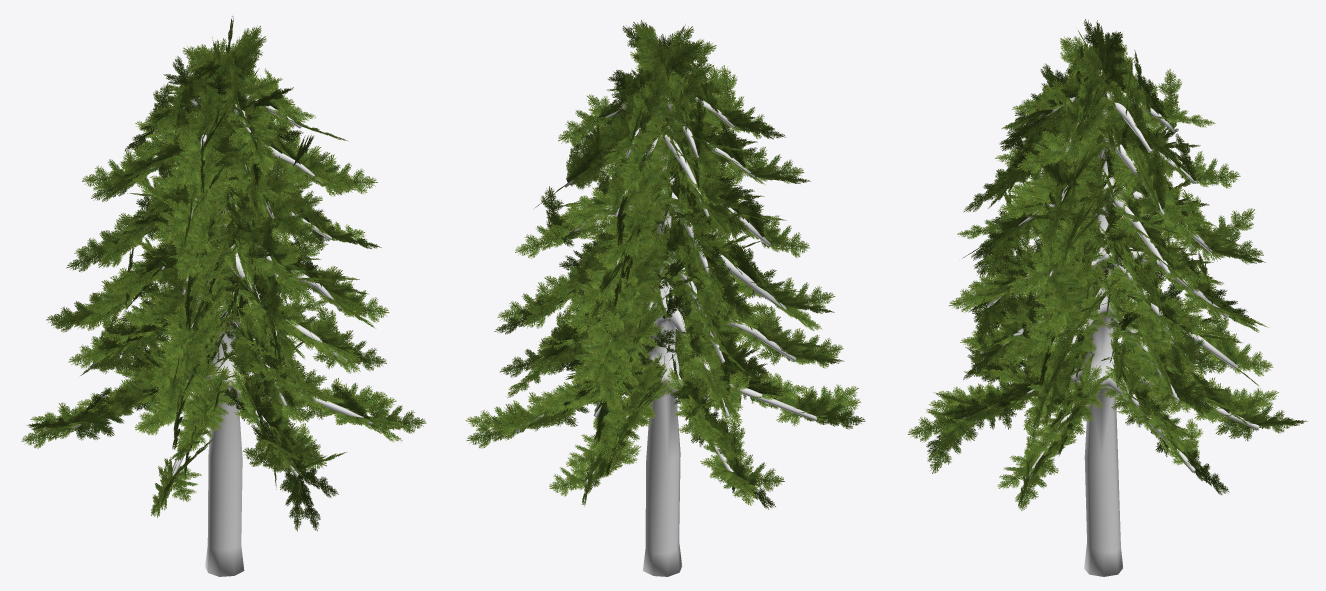
The model's file is Tree3.fbx.
3 renders of one model, left to right at view 1: azimuth 30°, elevation 25°; view 2: azimuth 150°, elevation 25°; view 3: azimuth 270°, elevation 25°, orthographic.
Parts seen in each view (by area): view 1: Branch_3, Tree_3; view 2: Branch_3, Tree_3; view 3: Branch_3, Tree_3.
Part boxes in pixels (x1,y1,x2,y2): Branch_3: (21, 16, 426, 531); Tree_3: (71, 94, 372, 576); Branch_3: (465, 20, 865, 509); Tree_3: (515, 70, 816, 576); Branch_3: (908, 19, 1307, 510); Tree_3: (963, 70, 1259, 576).
Bounding box in the file's own units: 583 × 948 × 635.
Materials: 2 (1 with a texture image).
